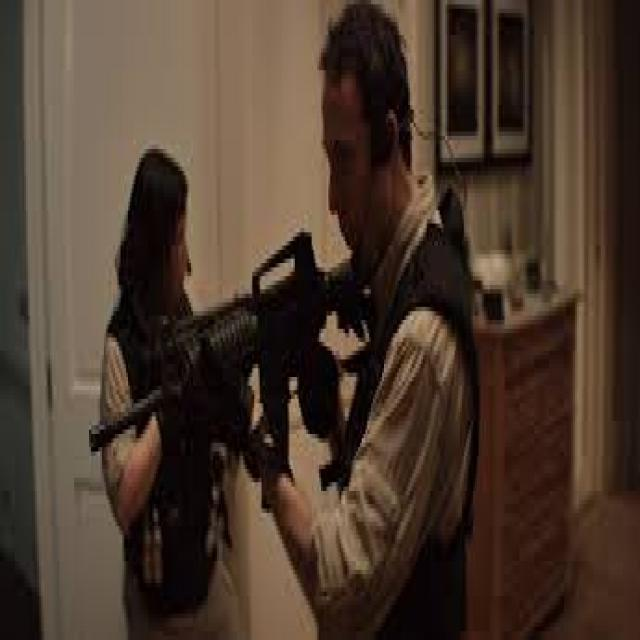weapon: (88, 221, 363, 534)
